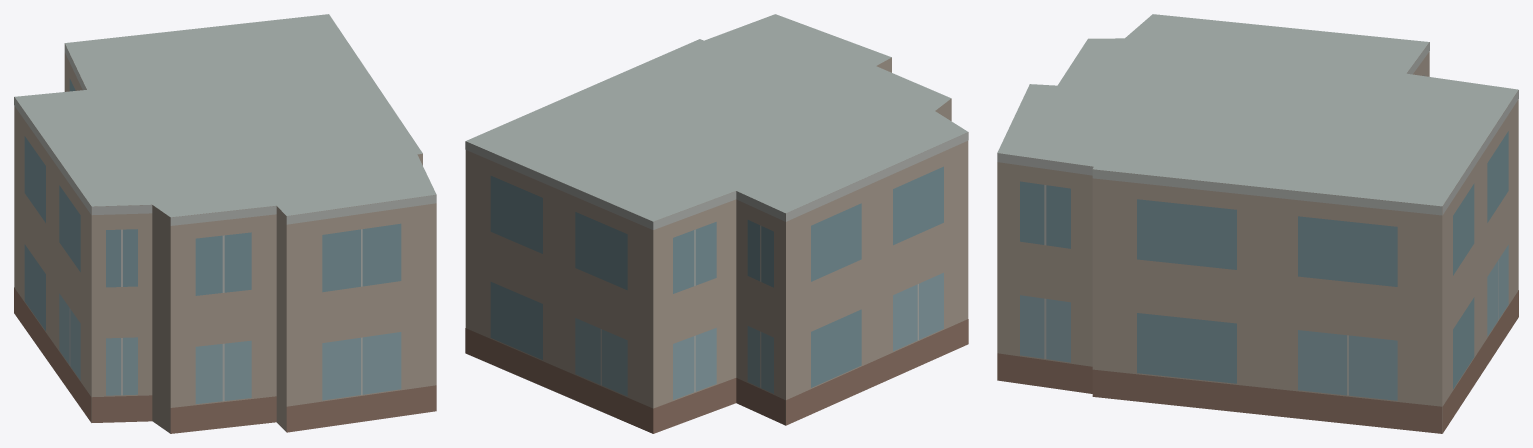
Rendered from survey-upis-32466809.glb.
The picture shows the model from 3 angles, left to right: view 1: azimuth 30°, elevation 25°; view 2: azimuth 150°, elevation 25°; view 3: azimuth 270°, elevation 25°; orthographic projection. The views are drawn at different scales.
Visible parts, largest first — view 1: survey-upis-32466809.tmp; view 2: survey-upis-32466809.tmp; view 3: survey-upis-32466809.tmp.
Boxes of the visible parts, x1,y1,x2,y2 form: survey-upis-32466809.tmp: (14, 14, 436, 433); survey-upis-32466809.tmp: (465, 14, 968, 433); survey-upis-32466809.tmp: (997, 14, 1518, 433).
Size of the model in its own units: 11.08 by 6.1 by 12.69.
